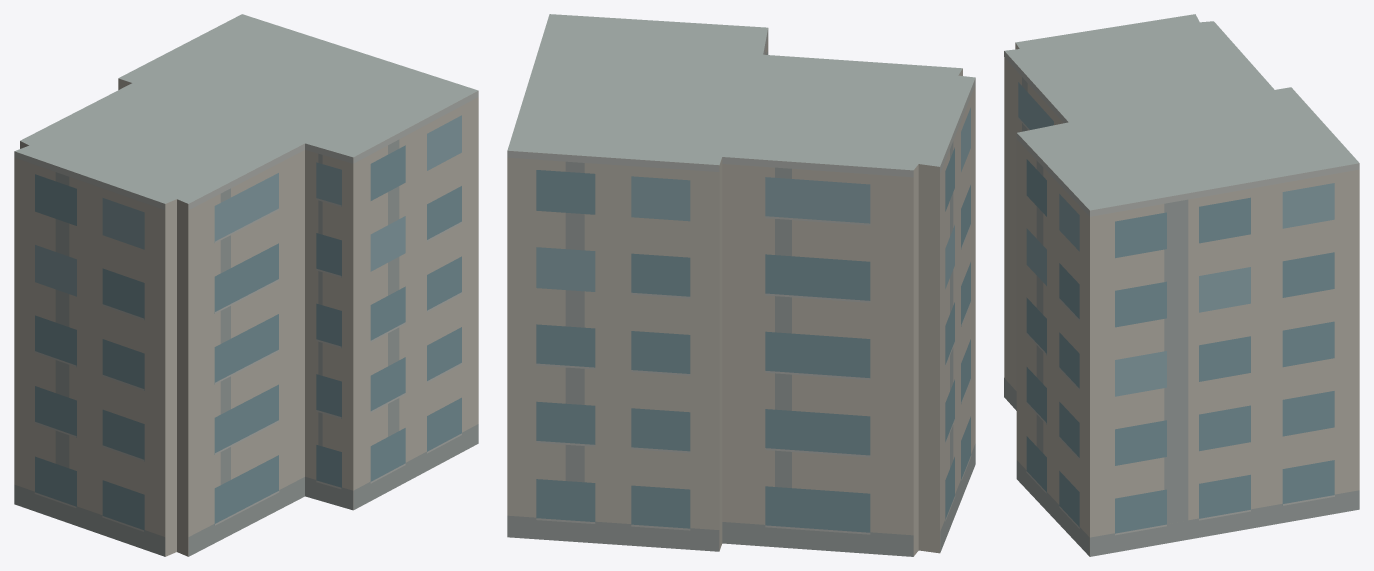
File: survey-upis-32855833.glb
3 renders of one model, left to right at view 1: azimuth 30°, elevation 25°; view 2: azimuth 150°, elevation 25°; view 3: azimuth 270°, elevation 25°, orthographic. The views are drawn at different scales.
Parts seen in each view (by area): view 1: survey-upis-32855833.tmp; view 2: survey-upis-32855833.tmp; view 3: survey-upis-32855833.tmp.
Part boxes in pixels (left/top/right/bottom): survey-upis-32855833.tmp: left=14, top=14, right=478, bottom=556; survey-upis-32855833.tmp: left=507, top=14, right=975, bottom=556; survey-upis-32855833.tmp: left=1004, top=14, right=1359, bottom=556.
Size of the model in its own units: 16.44 by 13.5 by 12.57.
